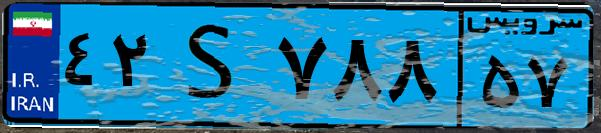2: (110, 28, 158, 98)
4: (57, 26, 110, 100)
5: (475, 38, 525, 113)
7: (270, 28, 330, 110), (525, 38, 570, 115)
8: (385, 28, 445, 110), (330, 28, 385, 110)
S: (158, 12, 270, 120)
